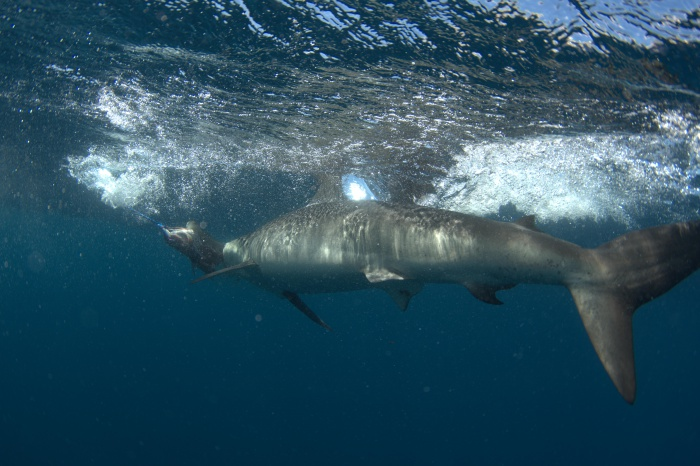Hammer: (34, 292, 352, 440)
